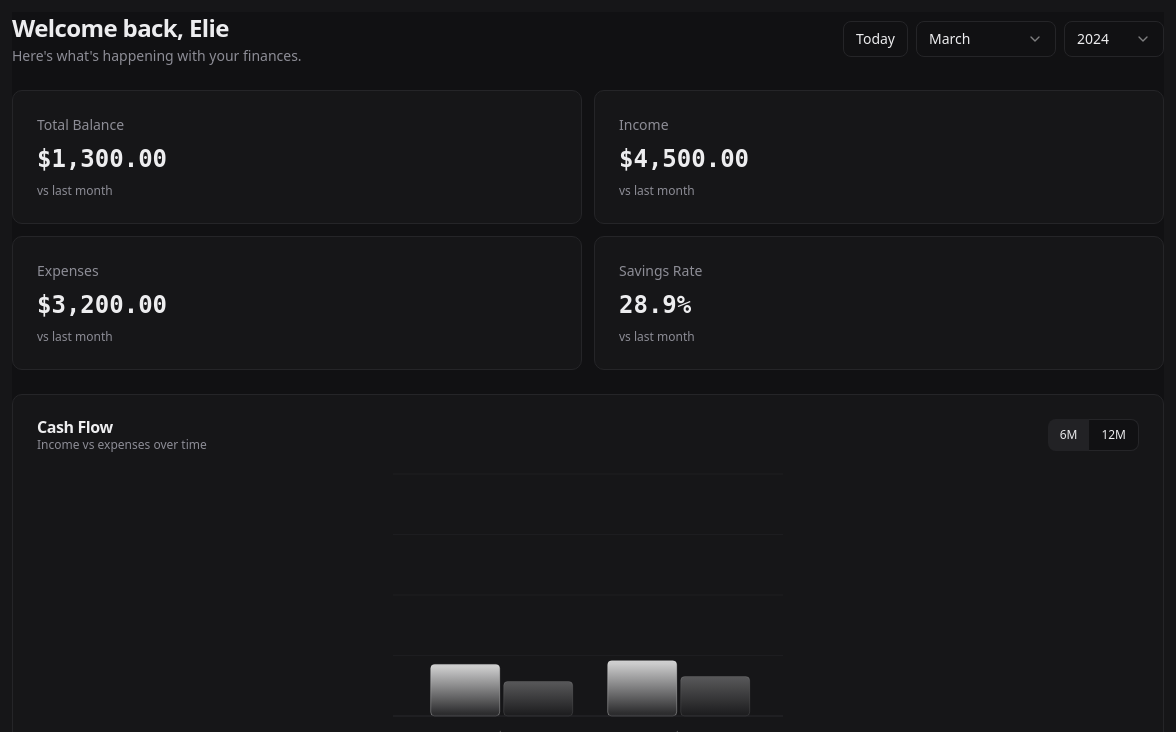
Scenario: Dashboard › Today button › resets to the current month when clicked
This screenshot has width=1176, height=732.
Click the button "Today": (876, 39) top-left (843, 21), bottom-right (908, 57)
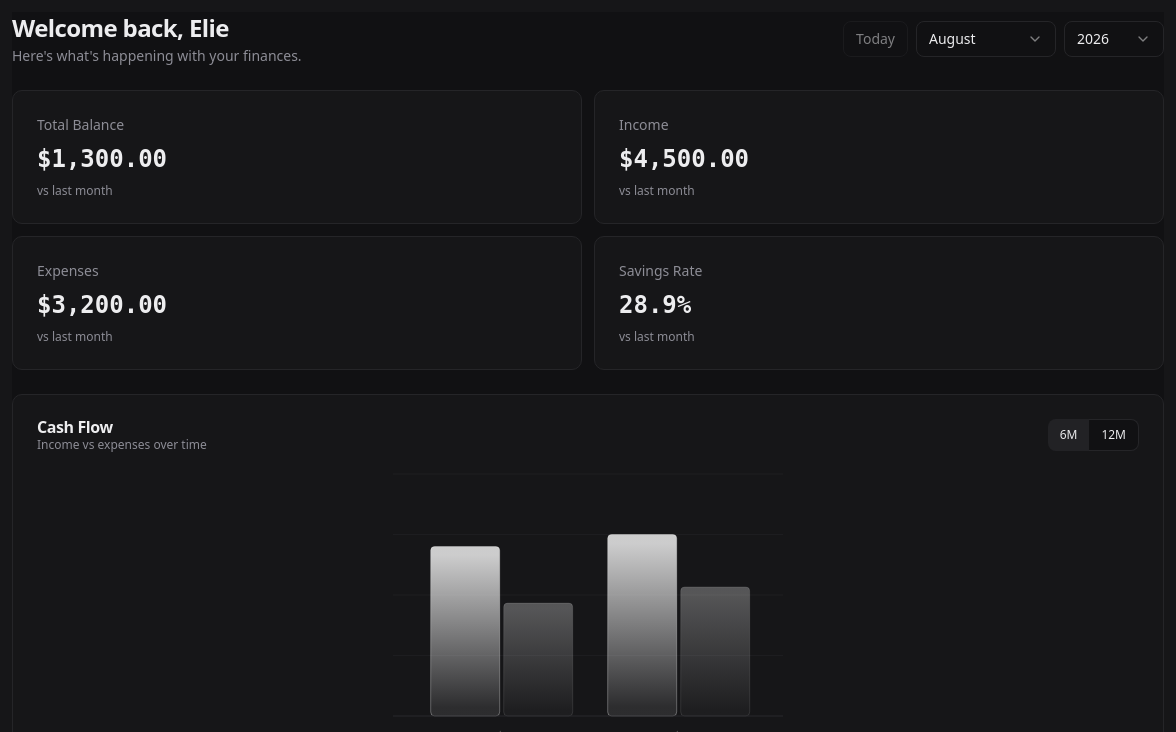
Check: the button "Today" is disabled, box top-left (843, 21), bottom-right (908, 57)
